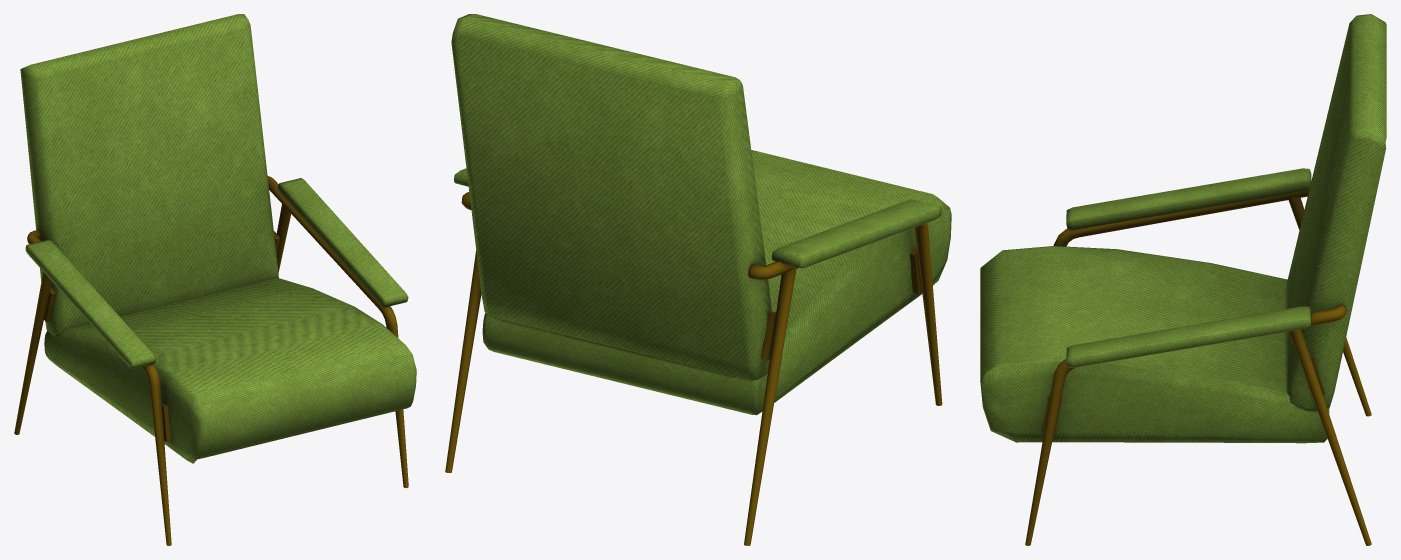
The model's file is Draper Arm Chair.fbx.
3 views of the same model, side by side, from view 1: azimuth 30°, elevation 25°; view 2: azimuth 150°, elevation 25°; view 3: azimuth 270°, elevation 25° (orthographic). The views are drawn at different scales.
Visible parts, largest first — view 1: Draper Arm Chair; view 2: Draper Arm Chair; view 3: Draper Arm Chair.
Boxes of the visible parts, x1=… form: Draper Arm Chair: x1=14, y1=14, x2=416, y2=545; Draper Arm Chair: x1=445, y1=14, x2=951, y2=545; Draper Arm Chair: x1=980, y1=14, x2=1386, y2=545.
Size of the model in its own units: 1.02 by 1.28 by 1.15.
Materials: 1 (1 with a texture image).
